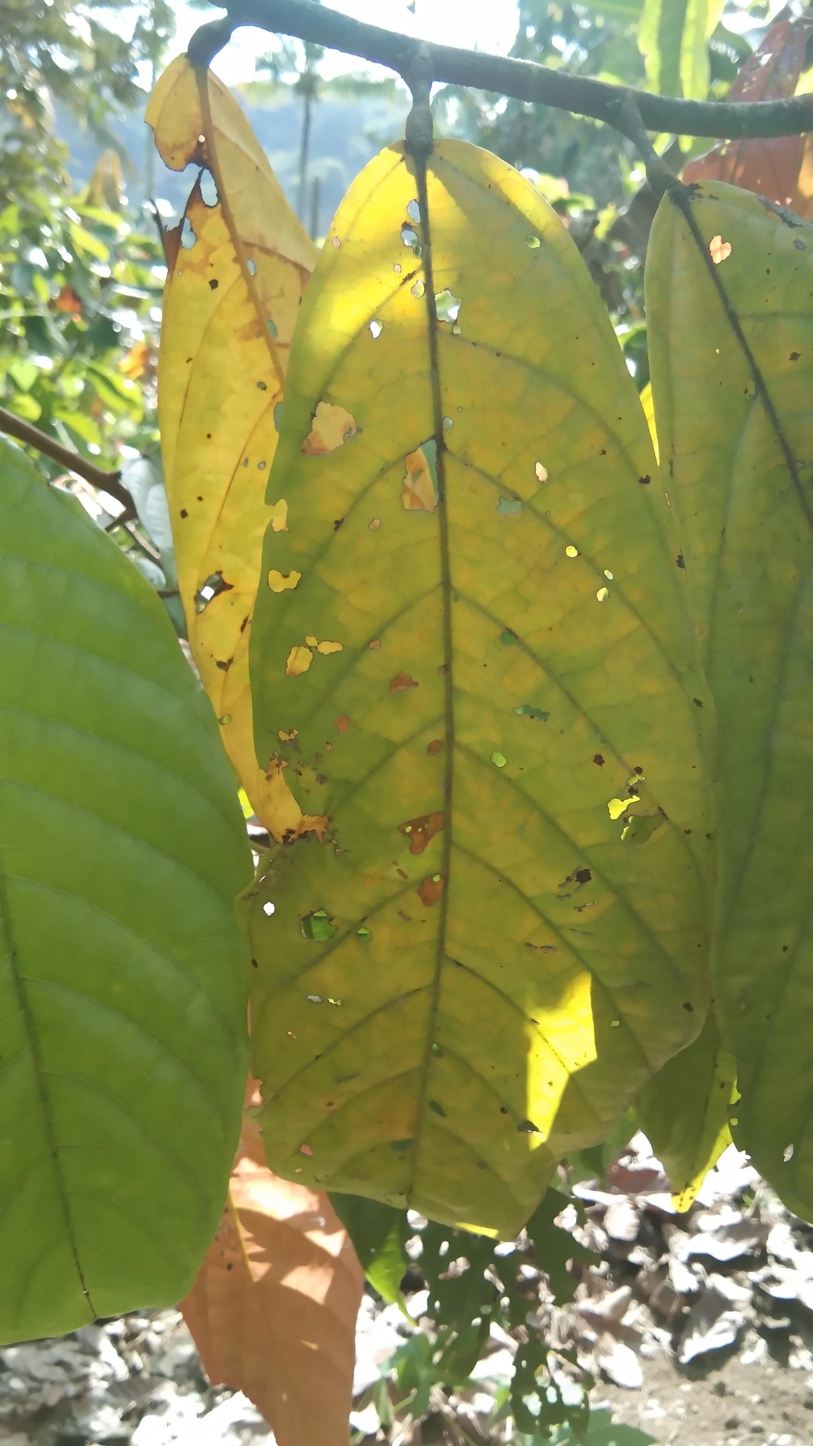deficiencia_potasio: (235, 136, 740, 1277)
